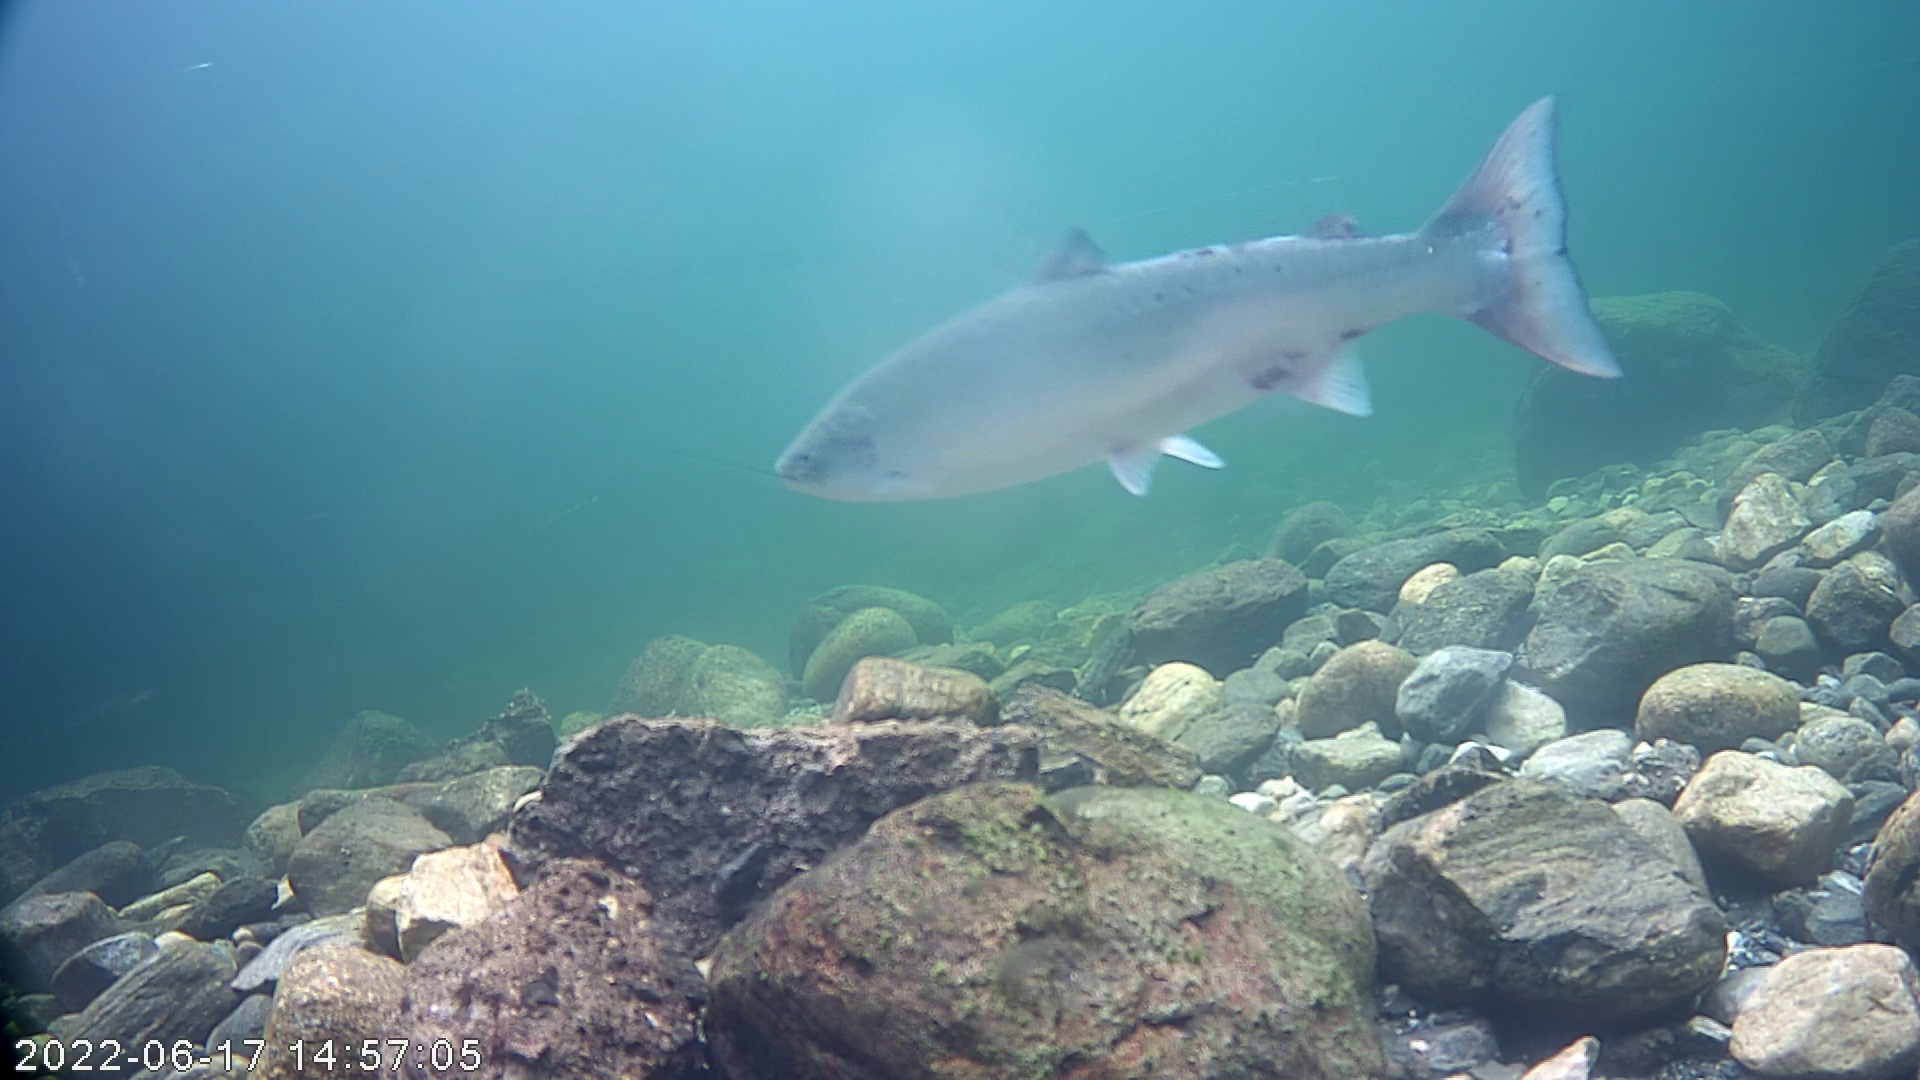salmon: (771, 90, 1629, 506)
